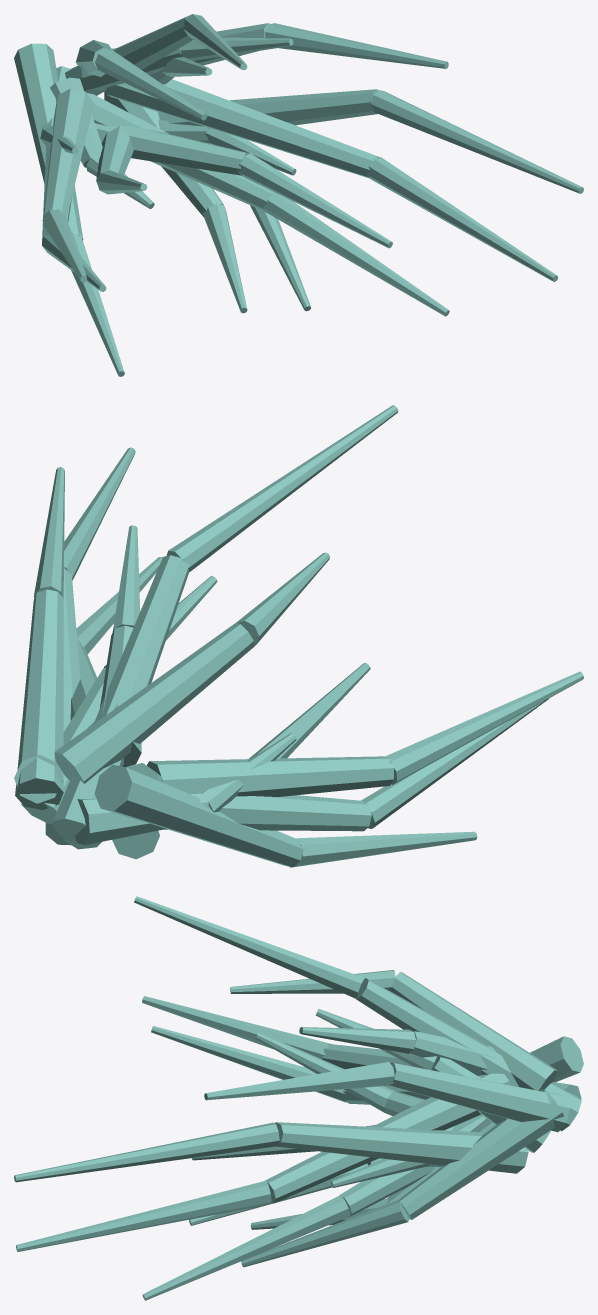
Rendered from Aquarion_Fan_Reef.glb.
The picture shows the model from 3 angles, top to bottom: view 1: azimuth 30°, elevation 25°; view 2: azimuth 150°, elevation 25°; view 3: azimuth 270°, elevation 25°; orthographic projection. The views are drawn at different scales.
Visible parts, largest first — view 1: Aquarion_Fan_Reef_branch_5_a, Aquarion_Fan_Reef_branch_13_a, Aquarion_Fan_Reef_branch_6_b, Aquarion_Fan_Reef_branch_5_b, Aquarion_Fan_Reef_branch_11_a, Aquarion_Fan_Reef_branch_6_a, Aquarion_Fan_Reef_branch_17_b, Aquarion_Fan_Reef_branch_14_a, Aquarion_Fan_Reef_branch_17_a, Aquarion_Fan_Reef_branch_0_b, Aquarion_Fan_Reef_branch_14_b, Aquarion_Fan_Reef_branch_8_a (+19 smaller); view 2: Aquarion_Fan_Reef_branch_4_a, Aquarion_Fan_Reef_branch_0_a, Aquarion_Fan_Reef_branch_11_a, Aquarion_Fan_Reef_branch_13_a, Aquarion_Fan_Reef_branch_8_a, Aquarion_Fan_Reef_branch_8_b, Aquarion_Fan_Reef_branch_3_a, Aquarion_Fan_Reef_branch_13_b, Aquarion_Fan_Reef_branch_11_b, Aquarion_Fan_Reef_branch_3_b, Aquarion_Fan_Reef_branch_6_b, Aquarion_Fan_Reef_branch_0_b (+13 smaller); view 3: Aquarion_Fan_Reef_branch_6_a, Aquarion_Fan_Reef_branch_0_a, Aquarion_Fan_Reef_branch_10_a, Aquarion_Fan_Reef_branch_5_a, Aquarion_Fan_Reef_branch_6_b, Aquarion_Fan_Reef_branch_5_b, Aquarion_Fan_Reef_branch_4_a, Aquarion_Fan_Reef_branch_8_a, Aquarion_Fan_Reef_branch_8_b, Aquarion_Fan_Reef_branch_17_b, Aquarion_Fan_Reef_branch_0_b, Aquarion_Fan_Reef_branch_10_b (+17 smaller).
Part boxes in pixels (bbox=[...]): Aquarion_Fan_Reef_branch_5_a: bbox=[106, 79, 378, 177]; Aquarion_Fan_Reef_branch_13_a: bbox=[42, 88, 93, 221]; Aquarion_Fan_Reef_branch_6_b: bbox=[370, 90, 583, 193]; Aquarion_Fan_Reef_branch_5_b: bbox=[367, 157, 557, 281]; Aquarion_Fan_Reef_branch_11_a: bbox=[14, 43, 83, 240]; Aquarion_Fan_Reef_branch_6_a: bbox=[158, 89, 378, 128]; Aquarion_Fan_Reef_branch_17_b: bbox=[263, 192, 449, 316]; Aquarion_Fan_Reef_branch_14_a: bbox=[95, 123, 249, 175]; Aquarion_Fan_Reef_branch_17_a: bbox=[87, 93, 273, 211]; Aquarion_Fan_Reef_branch_0_b: bbox=[265, 23, 448, 68]; Aquarion_Fan_Reef_branch_14_b: bbox=[237, 153, 392, 248]; Aquarion_Fan_Reef_branch_8_a: bbox=[65, 14, 193, 95]; Aquarion_Fan_Reef_branch_4_a: bbox=[54, 623, 254, 783]; Aquarion_Fan_Reef_branch_0_a: bbox=[15, 589, 63, 809]; Aquarion_Fan_Reef_branch_11_a: bbox=[94, 764, 303, 867]; Aquarion_Fan_Reef_branch_13_a: bbox=[147, 756, 394, 796]; Aquarion_Fan_Reef_branch_8_a: bbox=[53, 555, 189, 842]; Aquarion_Fan_Reef_branch_8_b: bbox=[166, 405, 398, 571]; Aquarion_Fan_Reef_branch_3_a: bbox=[164, 795, 371, 831]; Aquarion_Fan_Reef_branch_13_b: bbox=[383, 671, 583, 784]; Aquarion_Fan_Reef_branch_11_b: bbox=[289, 831, 477, 867]; Aquarion_Fan_Reef_branch_3_b: bbox=[361, 698, 549, 828]; Aquarion_Fan_Reef_branch_6_b: bbox=[64, 447, 135, 580]; Aquarion_Fan_Reef_branch_0_b: bbox=[33, 467, 64, 597]; Aquarion_Fan_Reef_branch_6_a: bbox=[275, 1122, 528, 1173]; Aquarion_Fan_Reef_branch_0_a: bbox=[388, 1062, 569, 1132]; Aquarion_Fan_Reef_branch_10_a: bbox=[399, 1089, 563, 1219]; Aquarion_Fan_Reef_branch_5_a: bbox=[264, 1073, 509, 1203]; Aquarion_Fan_Reef_branch_6_b: bbox=[14, 1122, 279, 1182]; Aquarion_Fan_Reef_branch_5_b: bbox=[16, 1180, 271, 1251]; Aquarion_Fan_Reef_branch_4_a: bbox=[391, 972, 557, 1090]; Aquarion_Fan_Reef_branch_8_a: bbox=[356, 978, 581, 1131]; Aquarion_Fan_Reef_branch_8_b: bbox=[134, 896, 365, 998]; Aquarion_Fan_Reef_branch_17_b: bbox=[142, 1195, 350, 1300]; Aquarion_Fan_Reef_branch_0_b: bbox=[204, 1062, 394, 1100]; Aquarion_Fan_Reef_branch_10_b: bbox=[241, 1199, 409, 1267].
Size of the model in its own units: 1.63 by 1.13 by 1.86.
